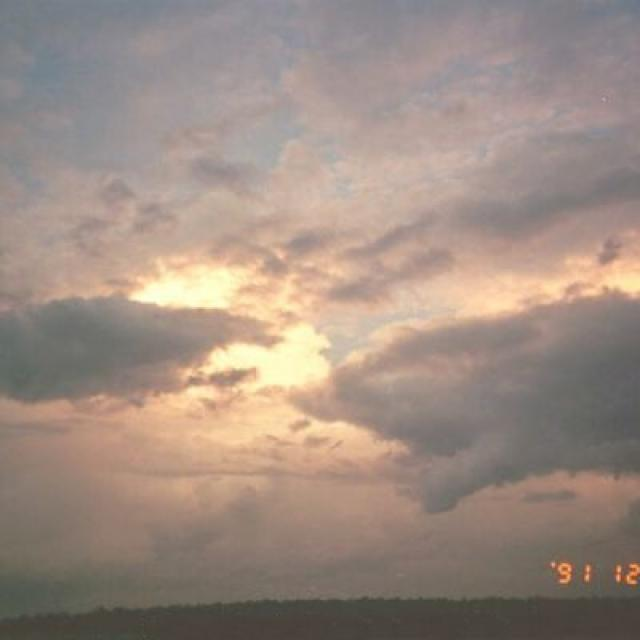Cb: (26, 55, 640, 477)
